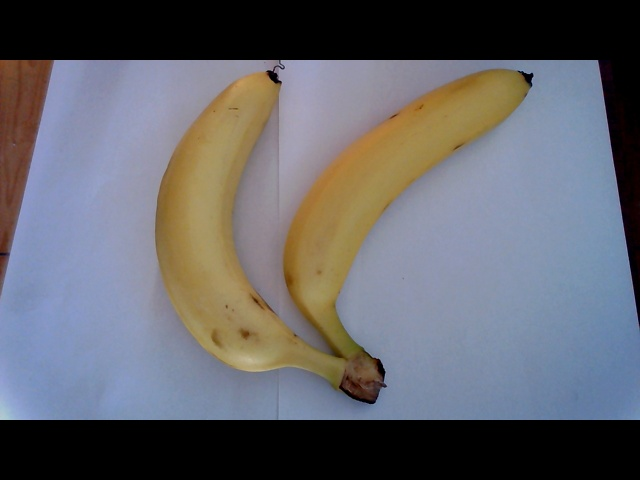banana: (289, 54, 526, 393), (156, 63, 308, 379)
